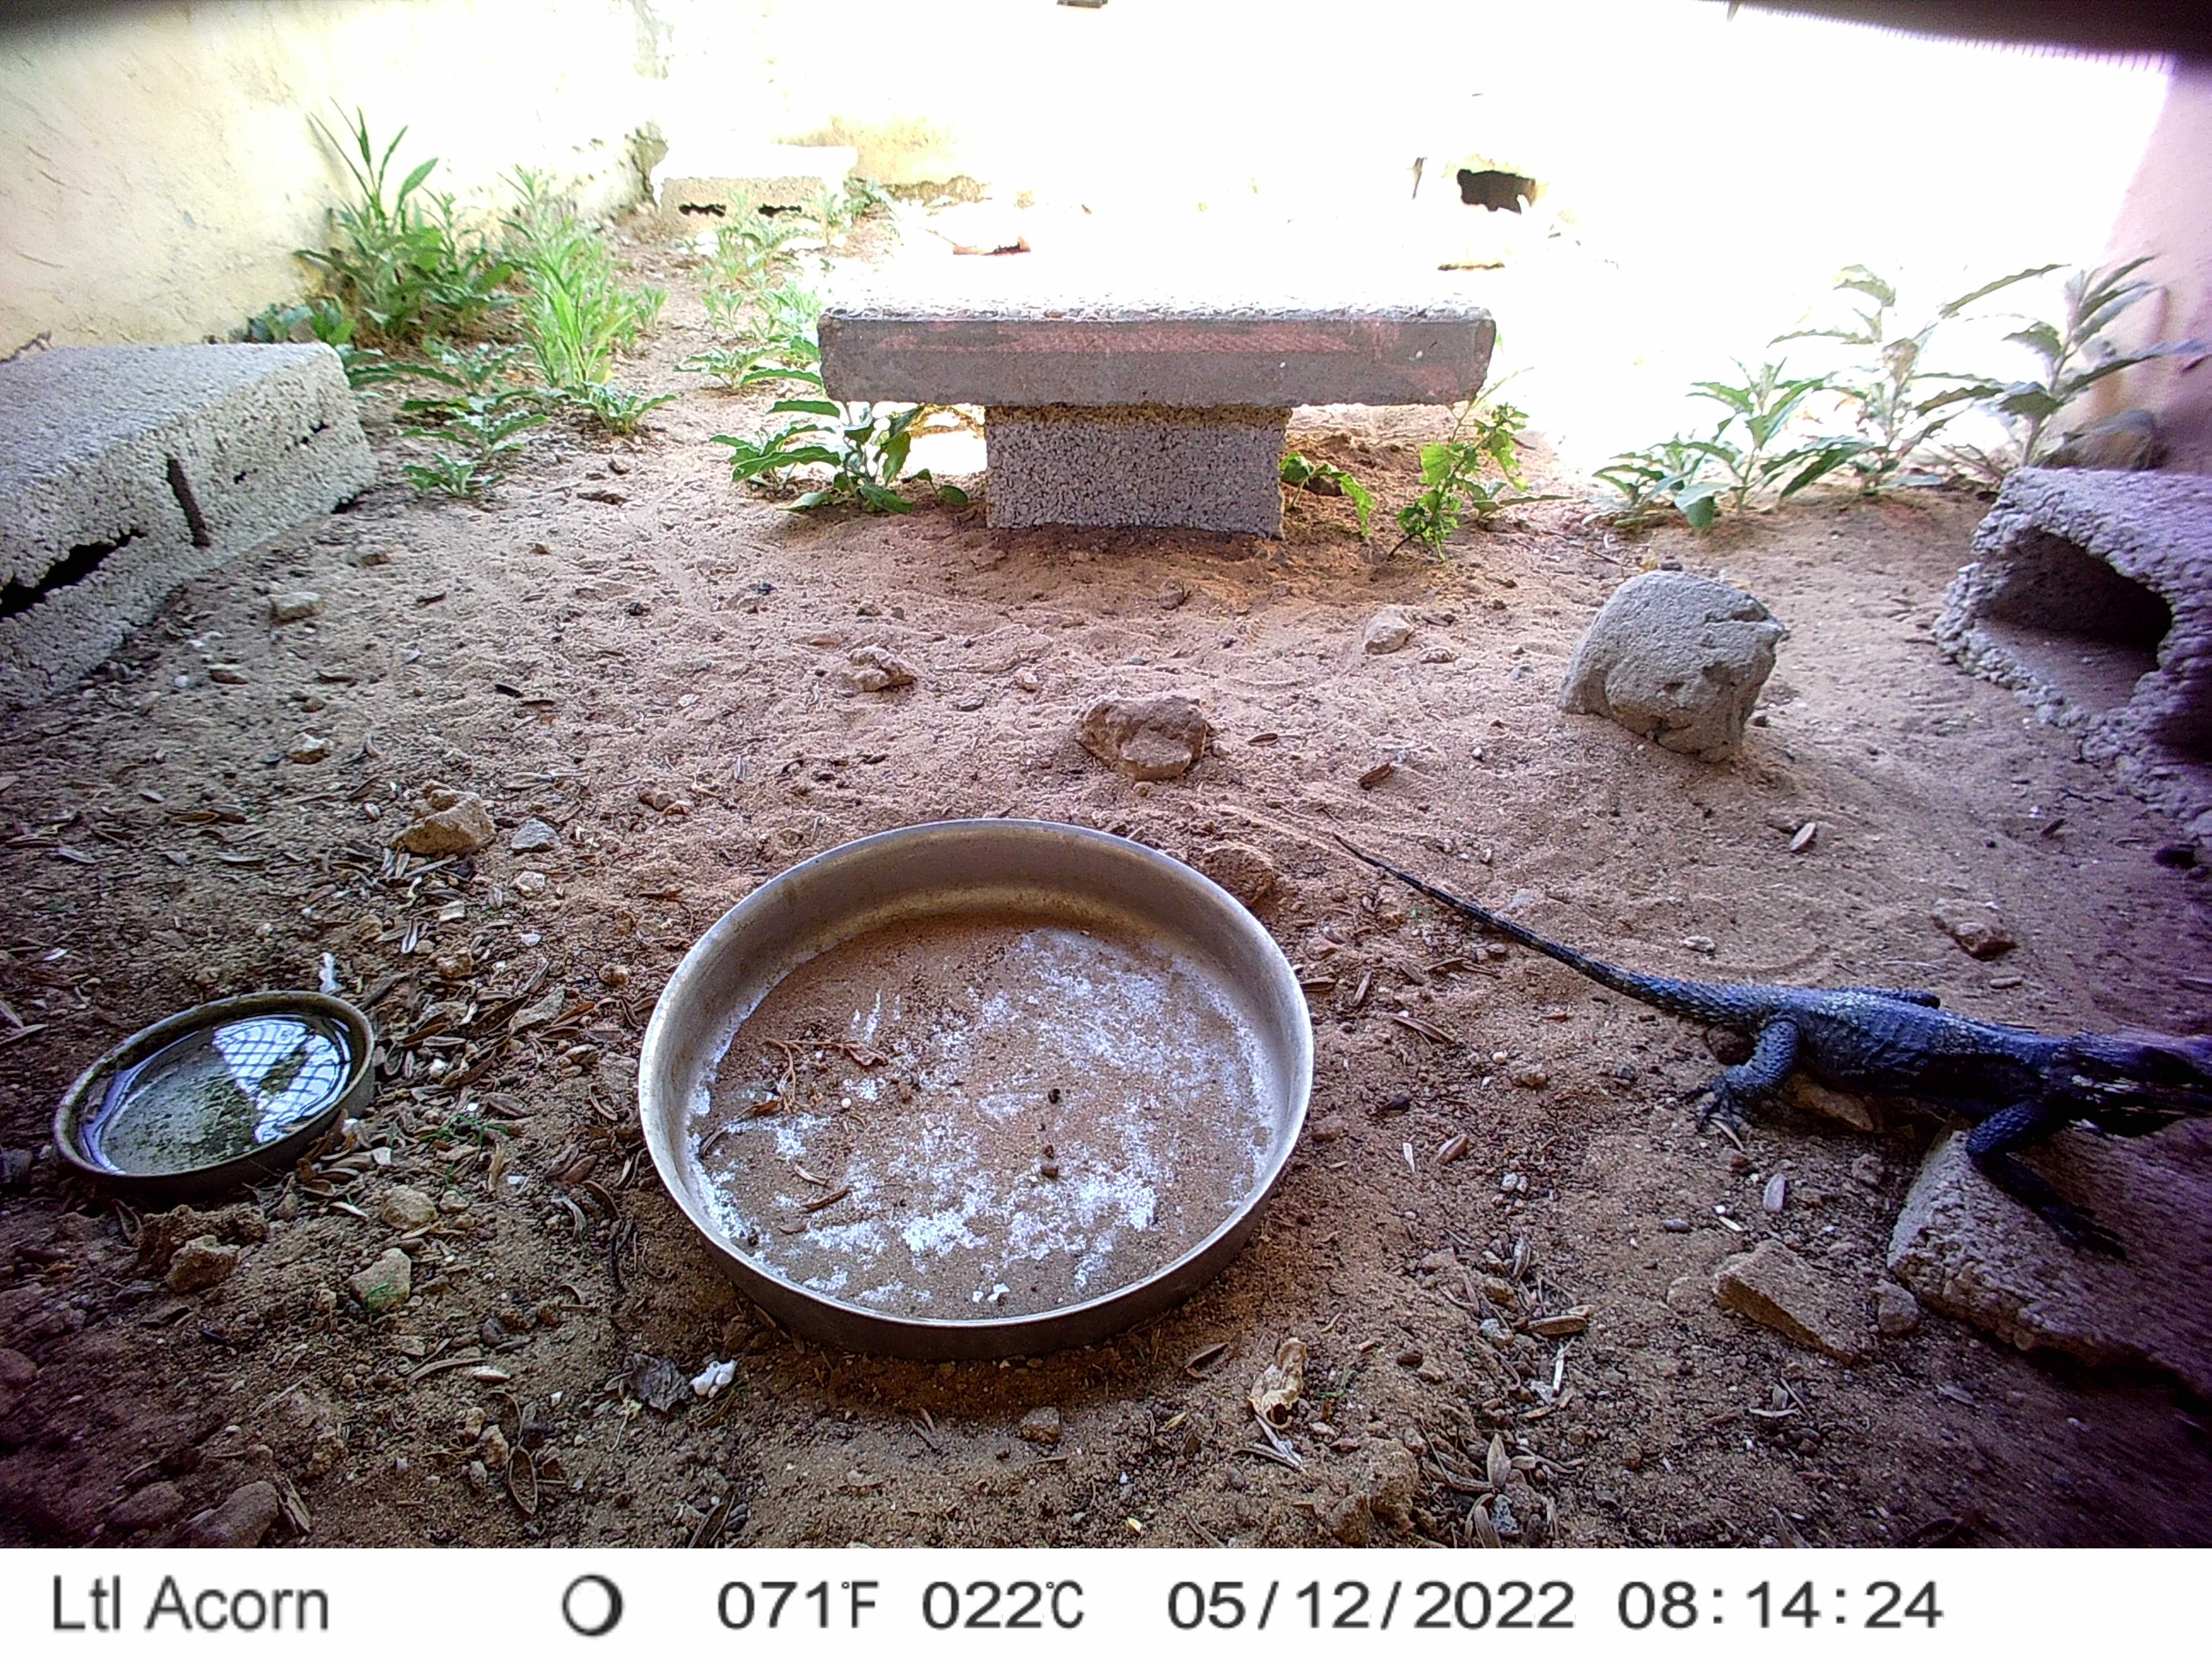lizard: (1322, 831, 2210, 1183)
